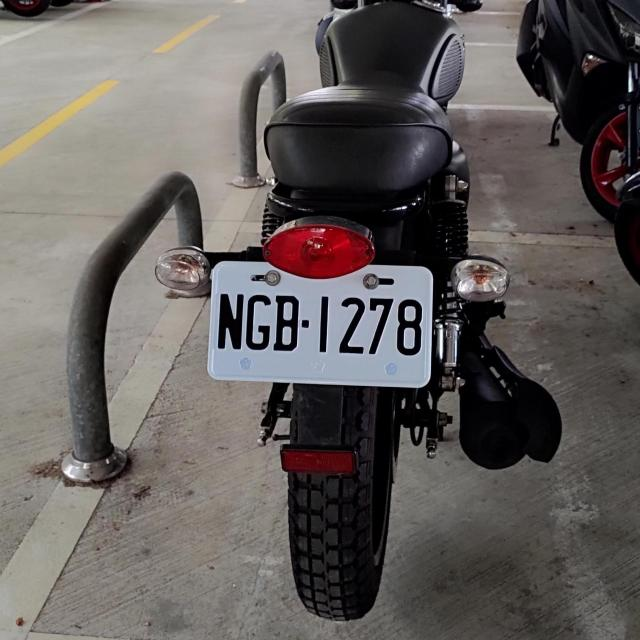W: (202, 257, 435, 387)
